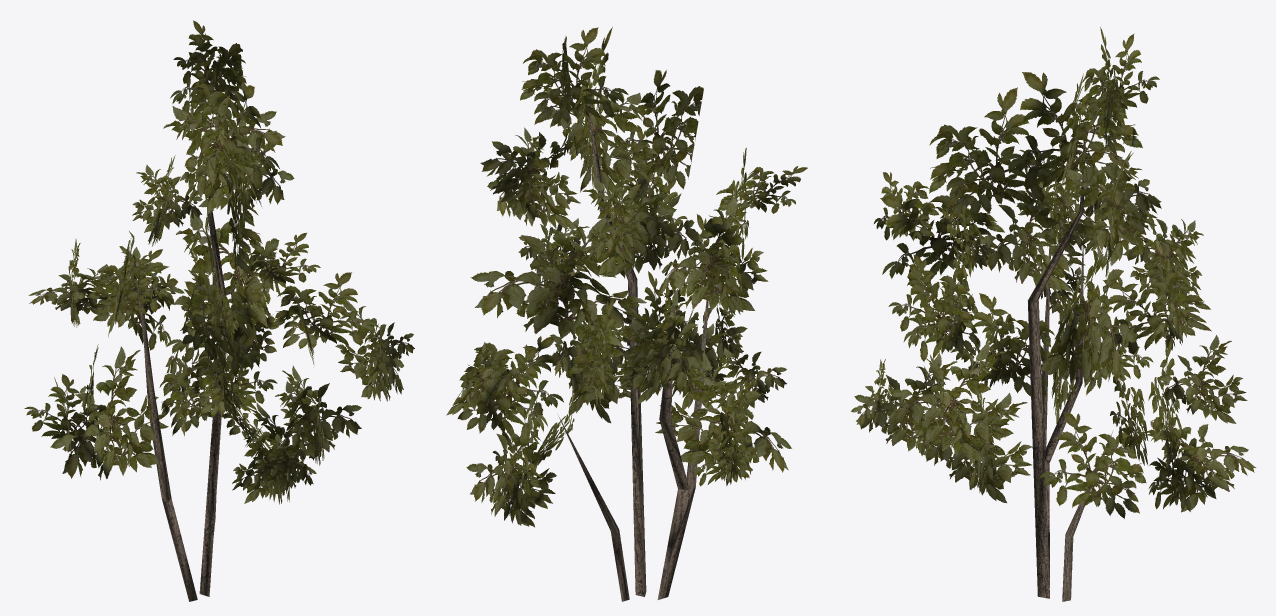
File: Vegetation_Tree03_lod2.glb
3 views of the same model, side by side, from view 1: azimuth 30°, elevation 25°; view 2: azimuth 150°, elevation 25°; view 3: azimuth 270°, elevation 25° (orthographic). The views are drawn at different scales.
Visible parts, largest first — view 1: xiutz_tree03_lod2_0; view 2: xiutz_tree03_lod2_0; view 3: xiutz_tree03_lod2_0.
Part boxes in pixels (x1,y1,x2,y2): xiutz_tree03_lod2_0: [24, 20, 414, 601]; xiutz_tree03_lod2_0: [446, 27, 807, 601]; xiutz_tree03_lod2_0: [851, 27, 1256, 601].
Bounding box in the file's own units: 5.17 × 8.6 × 5.51.
2 materials, 2 textured.
